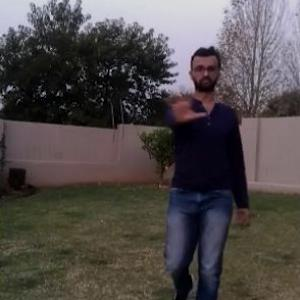follow_hand: (159, 76, 208, 122)
